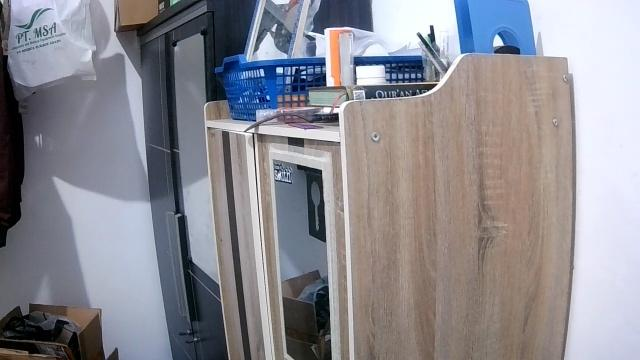Lemari: (203, 50, 573, 359)
